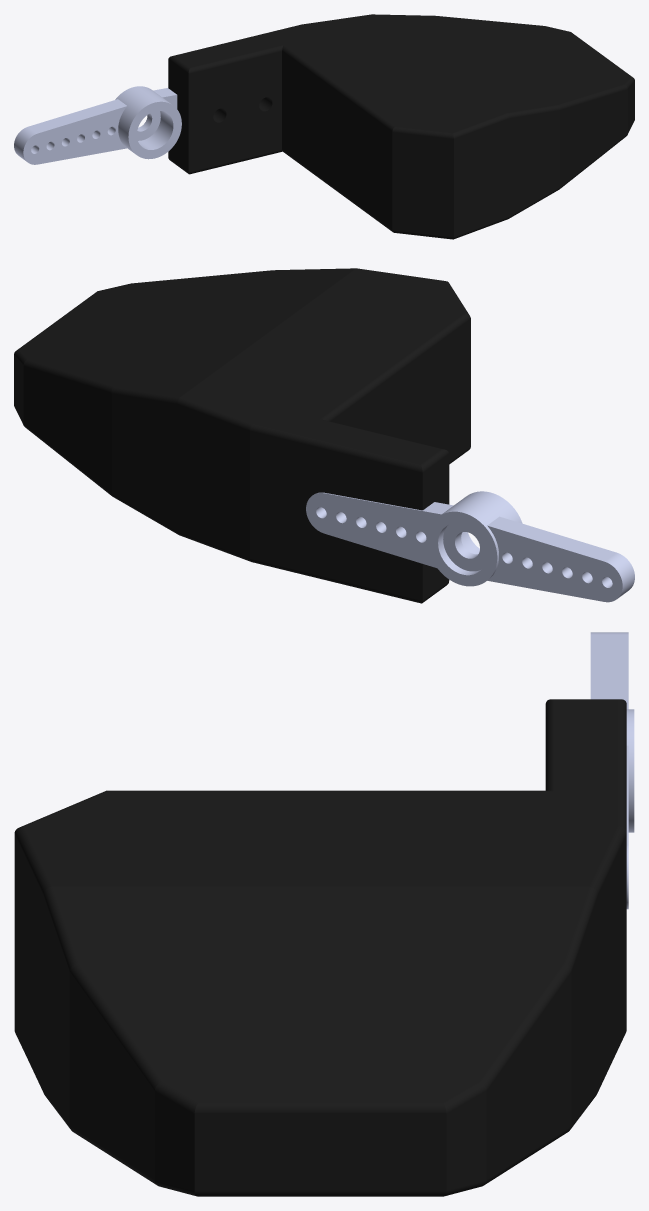
File: Finger_1_2.dae
The picture shows the model from 3 angles, top to bottom: view 1: azimuth 30°, elevation 25°; view 2: azimuth 150°, elevation 25°; view 3: azimuth 270°, elevation 25°; orthographic projection. The views are drawn at different scales.
Parts seen in each view (by area): view 1: Finger_1_2; view 2: Finger_1_2; view 3: Finger_1_2.
Part boxes in pixels (x1,y1,x2,y2): Finger_1_2: (14, 14, 634, 239); Finger_1_2: (14, 268, 634, 603); Finger_1_2: (14, 632, 634, 1196).
Size of the model in its own units: 0.0657 by 0.0344 by 0.013.
